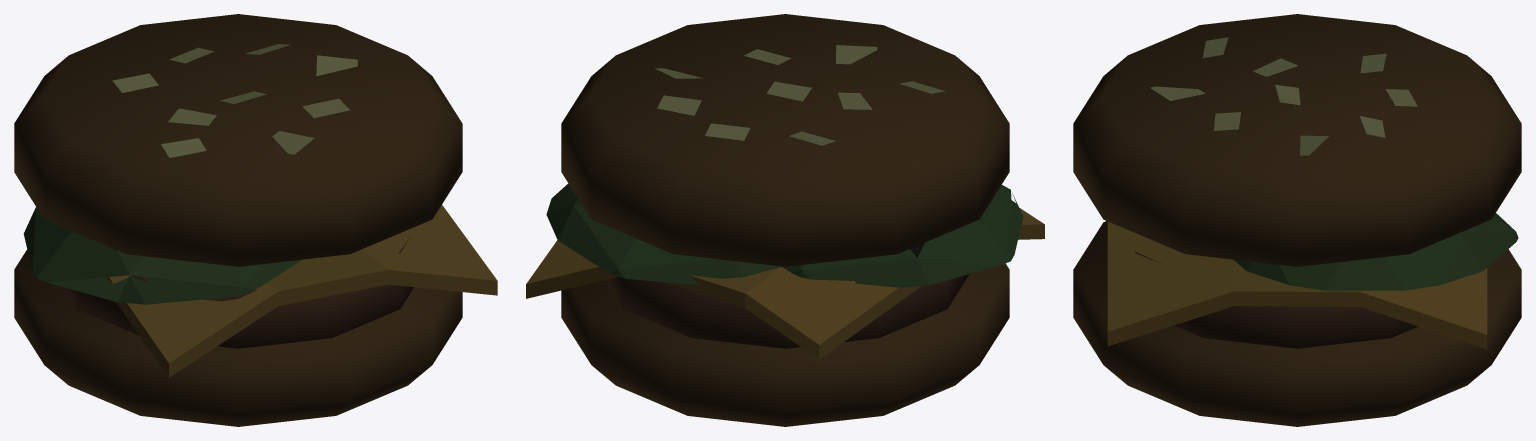
File: Burger(Lettuce) Burnt.glb
3 renders of one model, left to right at view 1: azimuth 30°, elevation 25°; view 2: azimuth 150°, elevation 25°; view 3: azimuth 270°, elevation 25°, orthographic.
Parts seen in each view (by area): view 1: Cylinder.026; view 2: Cylinder.026; view 3: Cylinder.026.
Boxes of the visible parts, left/top/right/bottom form: Cylinder.026: left=14, top=14, right=497, bottom=426; Cylinder.026: left=526, top=14, right=1044, bottom=426; Cylinder.026: left=1073, top=14, right=1521, bottom=426.
Bounding box in the file's own units: 0.4958 × 0.2952 × 0.4718.
